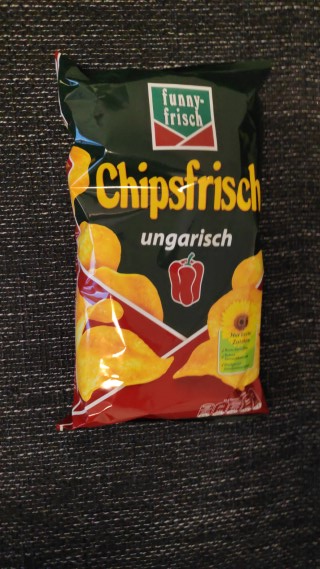chipsfrisch: (52, 49, 274, 435)
